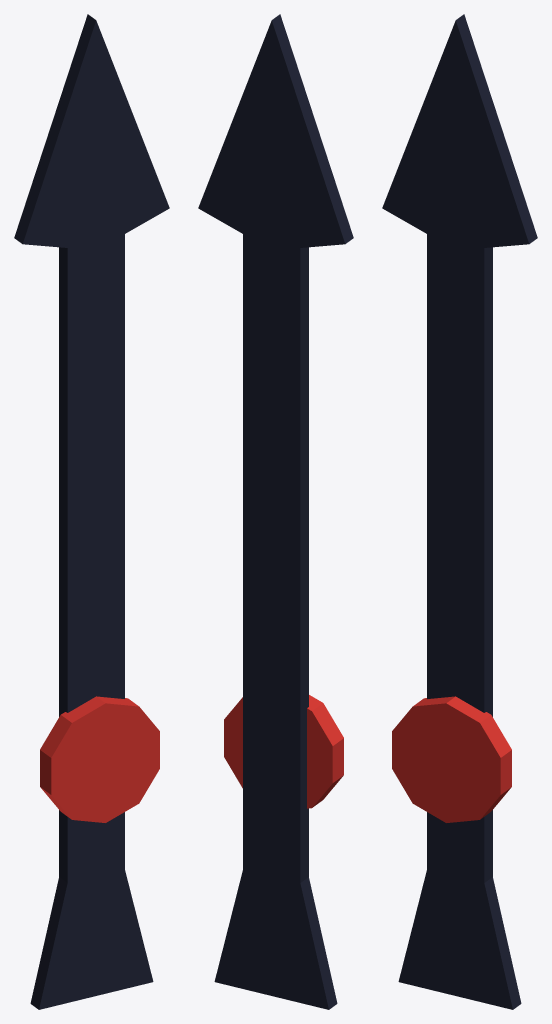
File: sm_env_depot_clock_hand_minute.glb
3 renders of one model, left to right at view 1: azimuth 30°, elevation 25°; view 2: azimuth 150°, elevation 25°; view 3: azimuth 330°, elevation 25°, orthographic.
Parts seen in each view (by area): view 1: Hand, CentreCap, HandTail; view 2: Hand, HandTail, CentreCap; view 3: Hand, CentreCap, HandTail.
Part boxes in pixels (x1,y1,x2,y2): Hand: [14, 14, 169, 899]; CentreCap: [40, 696, 159, 822]; HandTail: [30, 869, 153, 1009]; Hand: [198, 14, 353, 899]; HandTail: [214, 869, 337, 1009]; CentreCap: [224, 695, 343, 808]; Hand: [382, 14, 537, 899]; CentreCap: [392, 696, 511, 822]; HandTail: [398, 869, 521, 1009].
Size of the model in its own units: 0.09 by 0.57 by 0.019.
